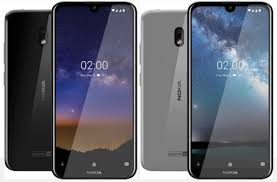nokia: (186, 2, 273, 182), (49, 1, 136, 179)
